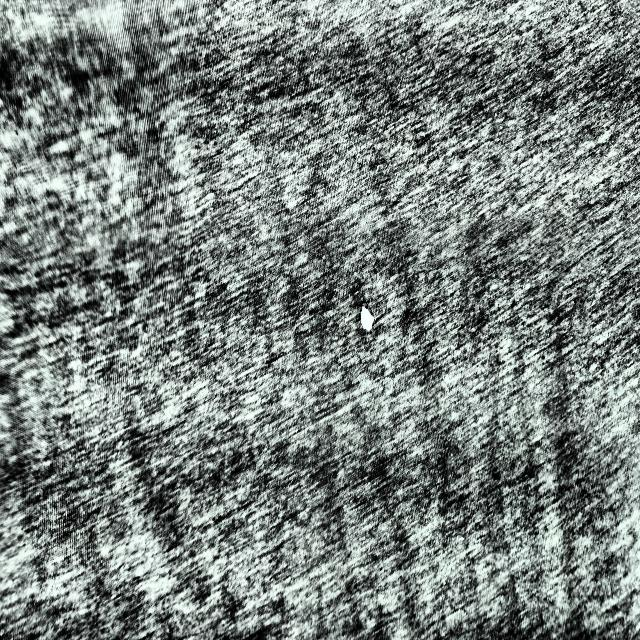Hole: (348, 298, 383, 343)
